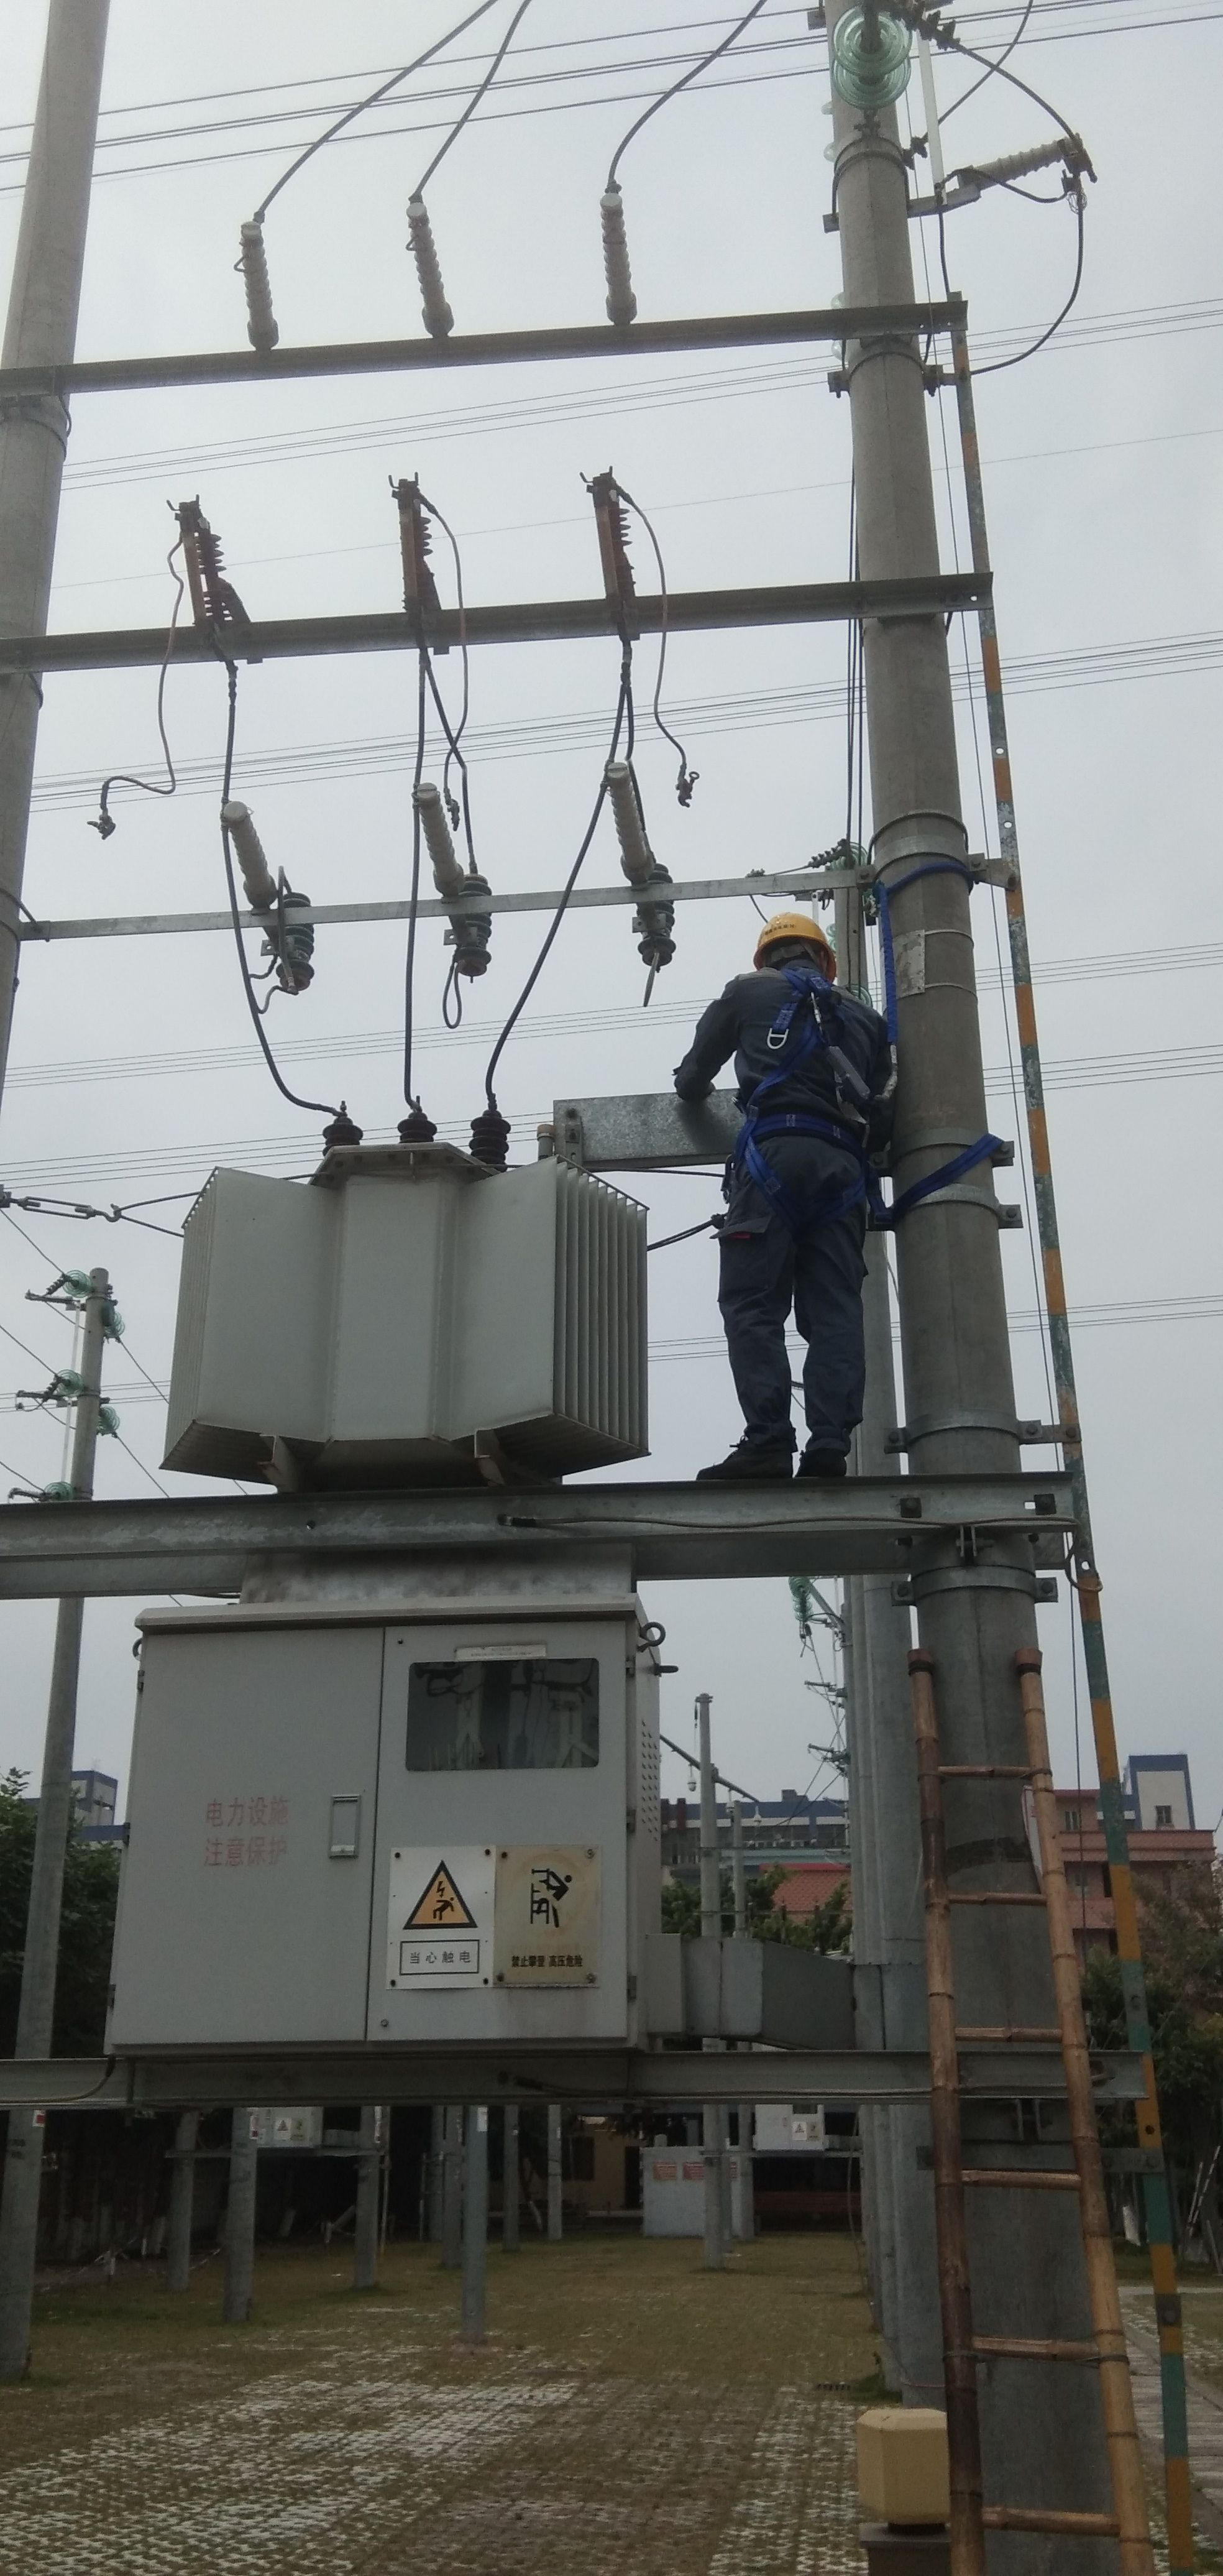downsuit: (719, 1161, 872, 1444)
upsuit: (673, 966, 895, 1134)
